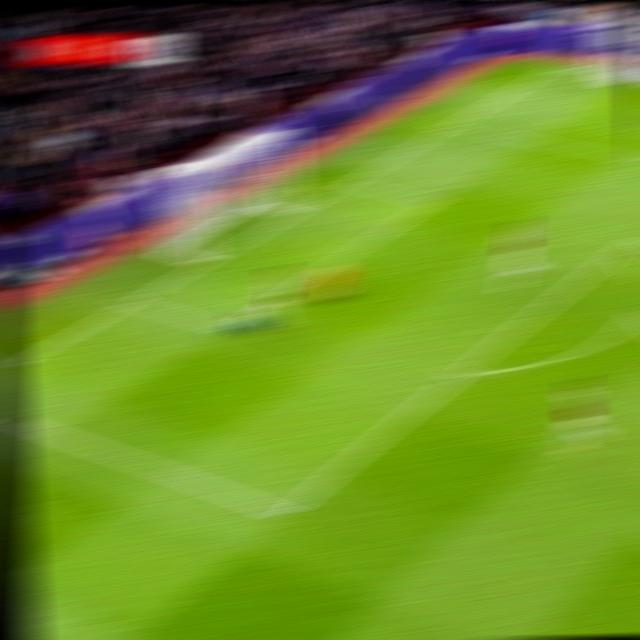bigarea_bottom_inner: (265, 497, 303, 529)
bigarea_top_outter: (433, 115, 466, 132)
bottom_arc_area_intersection: (442, 358, 479, 383)
corner: (540, 57, 577, 71)
smallarea_bottom_inner: (209, 315, 244, 341)
smallarea_bottom_outter: (114, 287, 151, 312)
smallarea_top_inner: (413, 190, 450, 212)
smallarea_top_outter: (332, 171, 364, 192)
top_arc_area_intersection: (601, 241, 633, 260)
